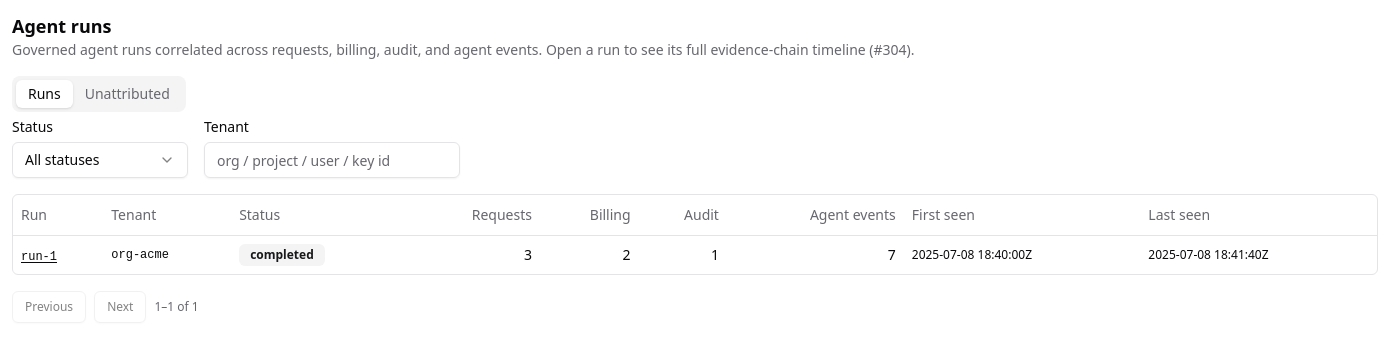
AgentRunsPage — unattributed activity › renders unavailable usage as unavailable, never as zero
Click the tab "Unattributed" at x=127, y=94, box [73,80,182,108]
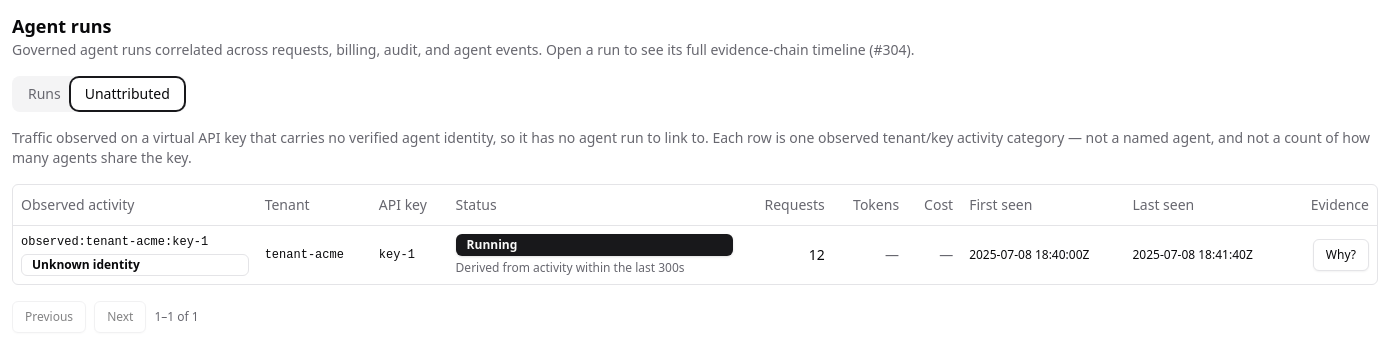
Expected: the text "observed:tenant-acme:key-1" is shown, [21,234,208,248]
Expected: the number of elements named "Usage evidence unavailable for this activity — unknown, not zero" is 2, [885,244,899,264]; [939,244,953,264]
Expected: the text named "Usage evidence unavailable for this activity — unknown, not zero" reads "—", [885,244,899,264]
